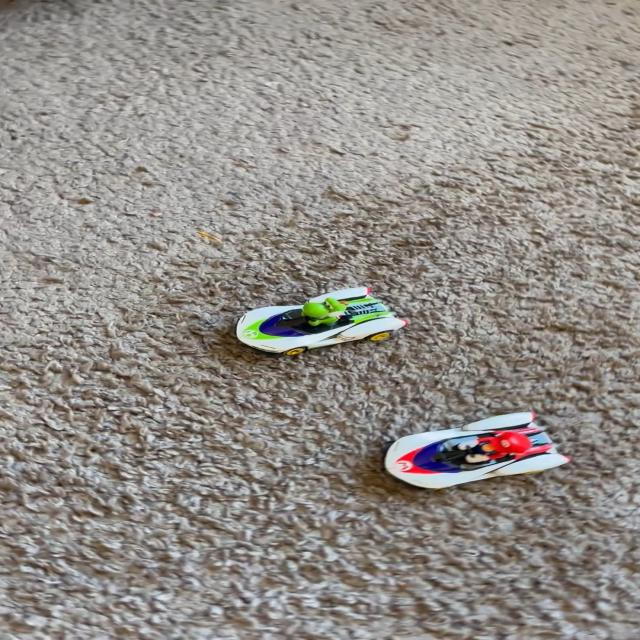mario: (372, 398, 584, 496)
yoshi: (222, 276, 422, 364)
